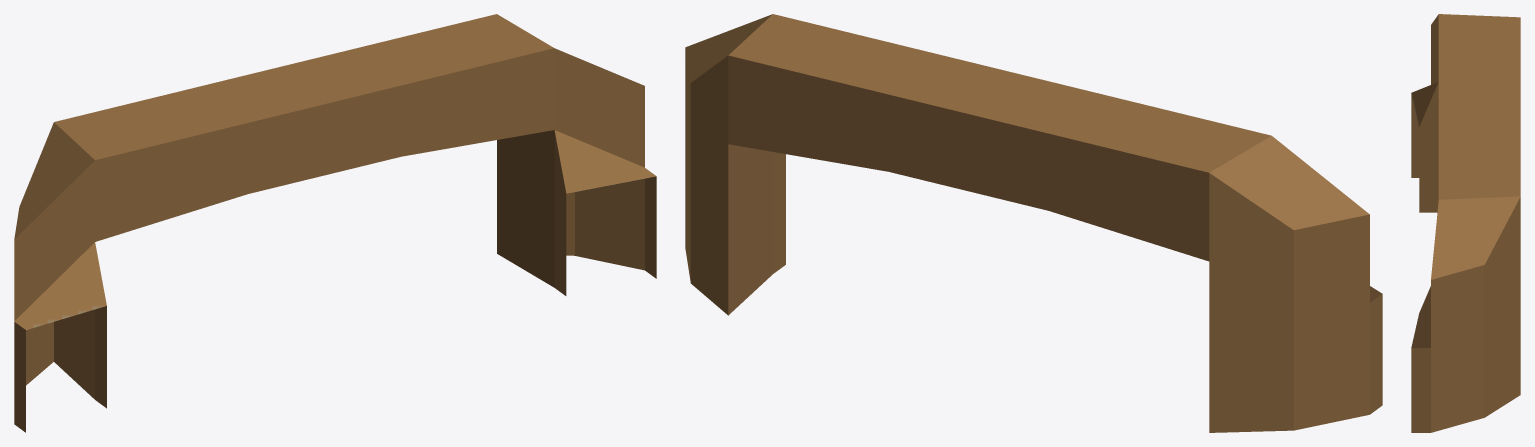
File: stone_slinger_barrel(multishot+2).fbx
3 views of the same model, side by side, from view 1: azimuth 30°, elevation 25°; view 2: azimuth 150°, elevation 25°; view 3: azimuth 270°, elevation 25° (orthographic). The views are drawn at different scales.
Parts seen in each view (by area): view 1: barrel_visual.002; view 2: barrel_visual.002; view 3: barrel_visual.002.
Boxes of the visible parts, left/top/right/bottom form: barrel_visual.002: left=14, top=14, right=656, bottom=432; barrel_visual.002: left=685, top=14, right=1382, bottom=432; barrel_visual.002: left=1411, top=14, right=1520, bottom=432.
Bounding box in the file's own units: 99.02 × 35.96 × 17.95.
1 material, 1 textured.
